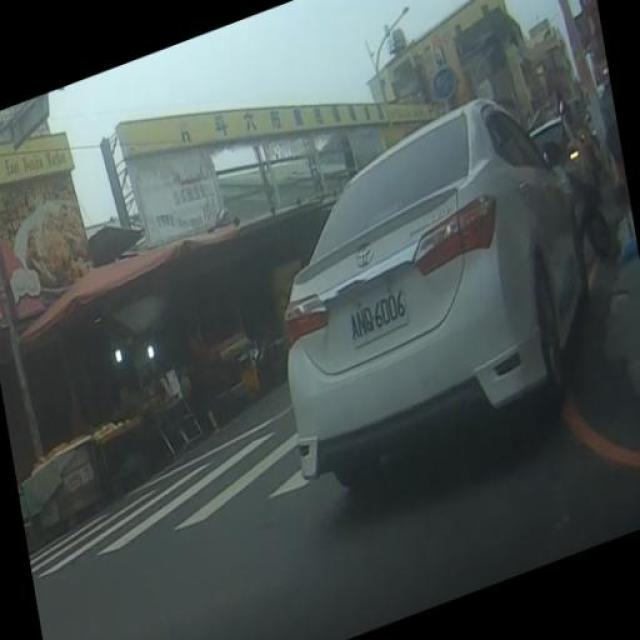illegalparking: (236, 99, 625, 485)
